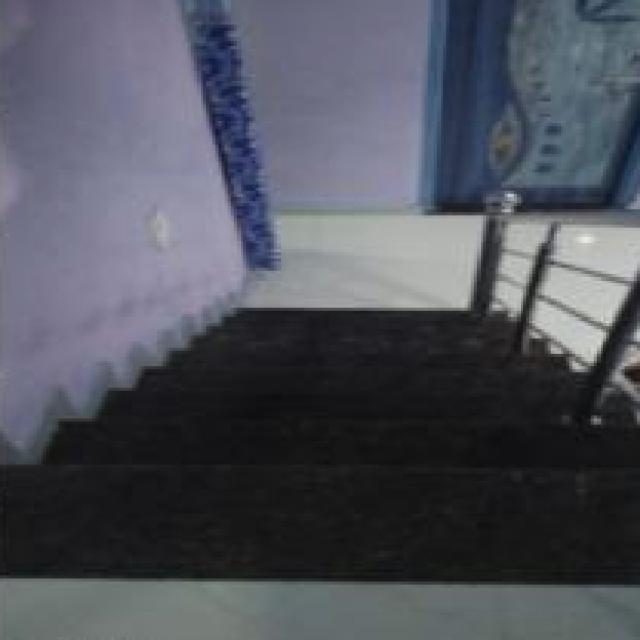downstair: (66, 330, 552, 558)
